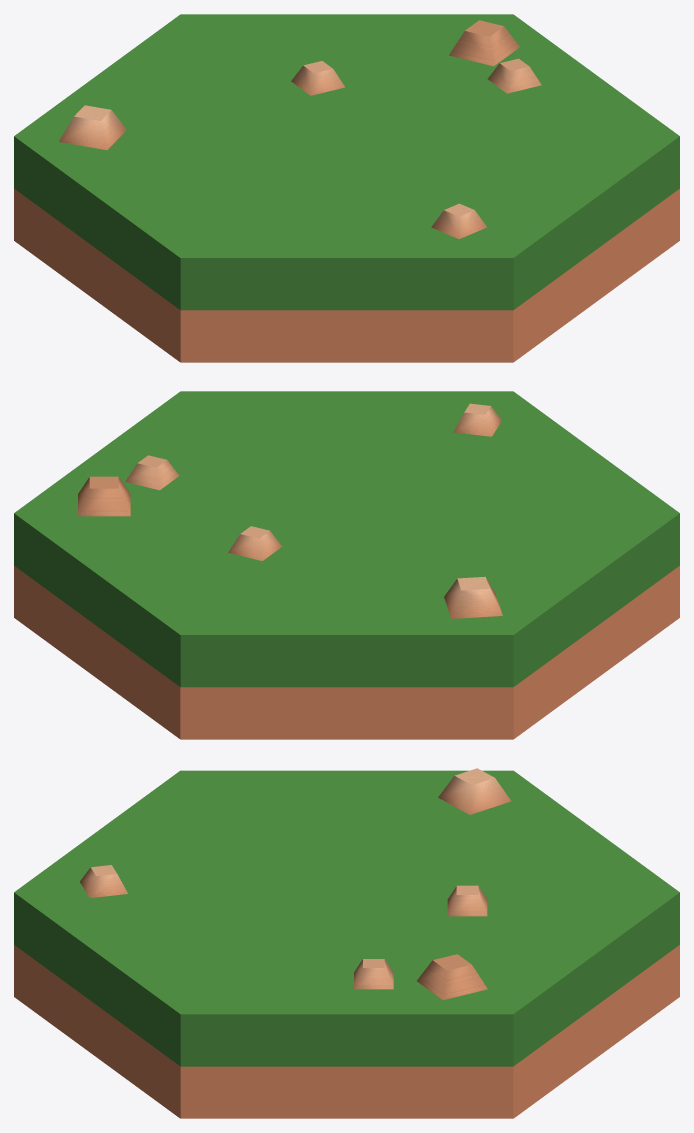
File: flat_scrubland.glb
3 renders of one model, top to bottom at view 1: azimuth 30°, elevation 25°; view 2: azimuth 150°, elevation 25°; view 3: azimuth 270°, elevation 25°, orthographic.
Parts seen in each view (by area): view 1: sand-rocks; view 2: sand-rocks; view 3: sand-rocks.
Part boxes in pixels (x1,y1,x2,y2): sand-rocks: (14, 14, 679, 362); sand-rocks: (14, 391, 679, 739); sand-rocks: (14, 768, 679, 1118).
Bounding box in the file's own units: 1 × 0.2435 × 1.15.
Materials: 1 (1 with a texture image).
